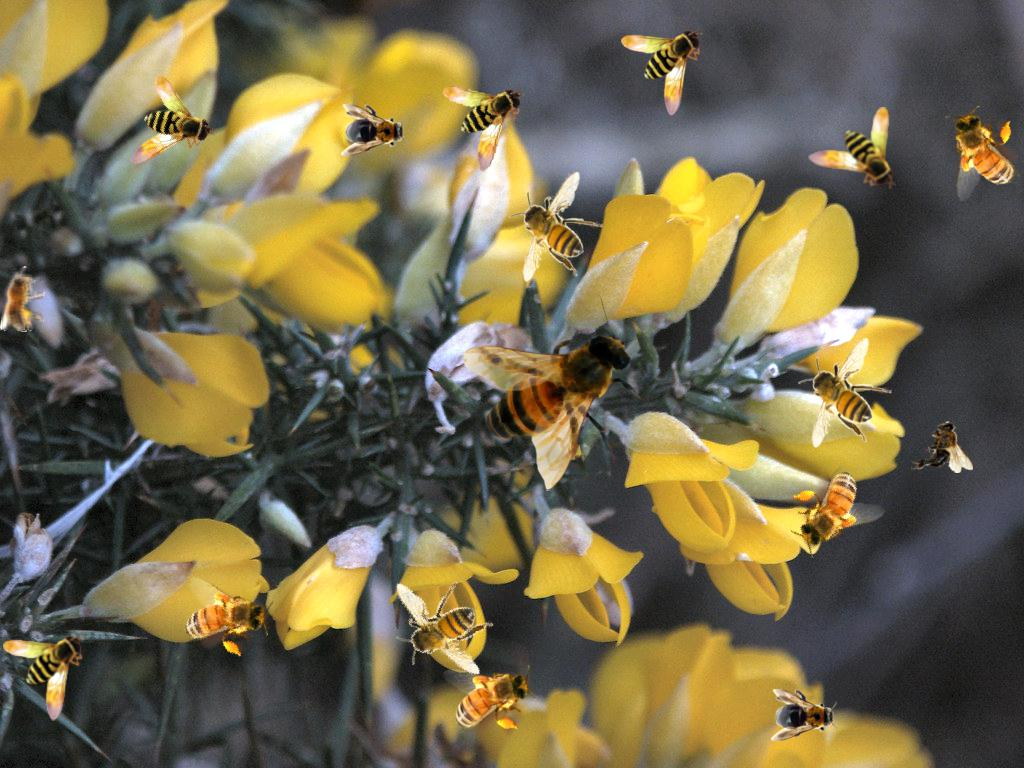Bee: (461, 292, 665, 491), (370, 560, 509, 690), (99, 68, 219, 188), (774, 457, 890, 562), (168, 570, 280, 667), (798, 337, 892, 448), (509, 171, 603, 282), (432, 77, 526, 177), (944, 102, 1022, 203), (621, 28, 703, 116), (808, 107, 896, 189), (3, 633, 85, 721), (443, 665, 536, 733), (771, 689, 839, 741), (341, 104, 409, 156), (911, 420, 973, 473), (0, 266, 45, 332)
